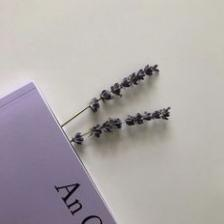purple: (0, 83, 114, 224)
